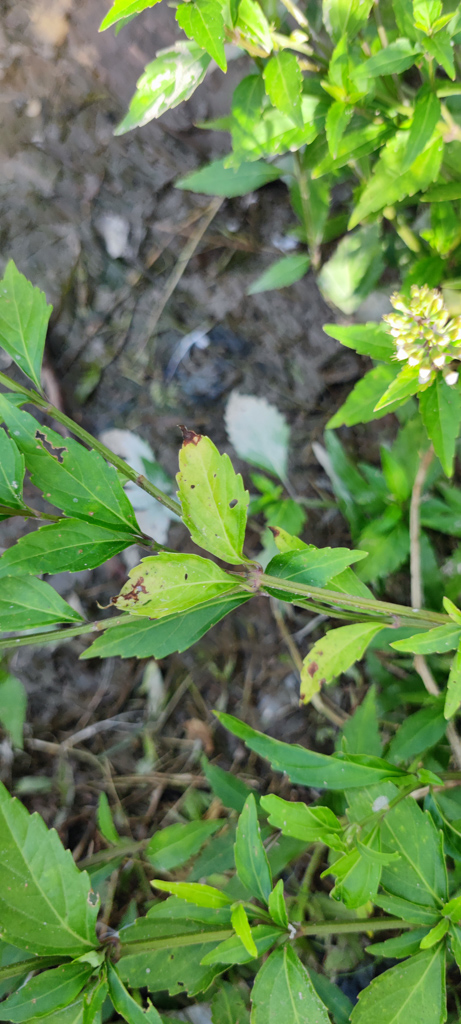Pepper yellow leaf: (174, 422, 260, 568), (292, 617, 386, 711), (109, 557, 237, 624)
